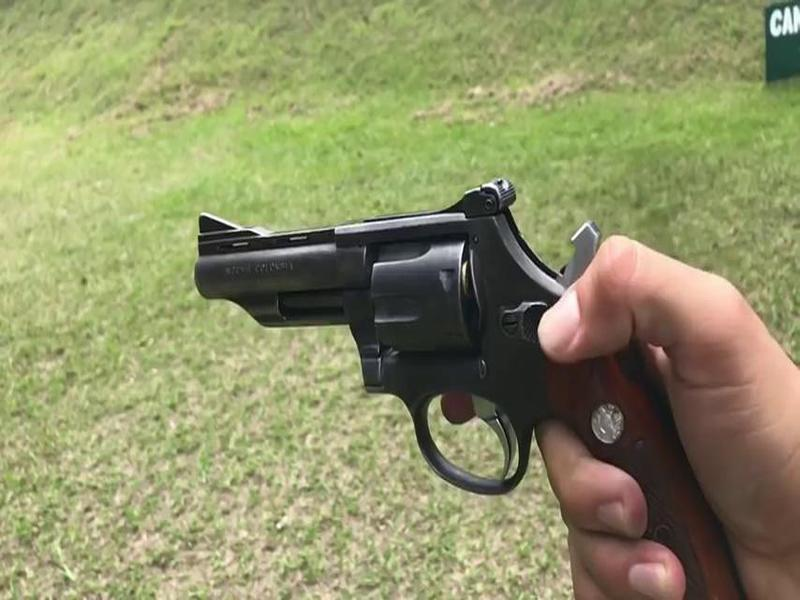Revolver: (180, 171, 659, 600)
